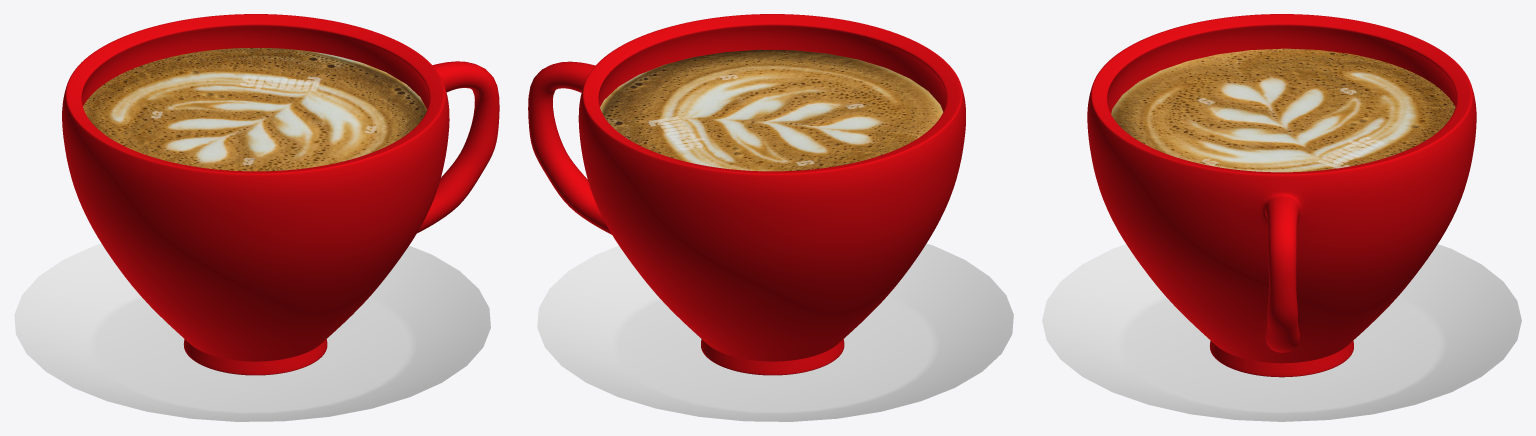
The model's file is Taza de Cafe Final.glb.
3 views of the same model, side by side, from view 1: azimuth 30°, elevation 25°; view 2: azimuth 150°, elevation 25°; view 3: azimuth 270°, elevation 25° (orthographic).
Parts seen in each view (by area): view 1: Cilindro, Círculo, Círculo.001; view 2: Cilindro, Círculo, Círculo.001; view 3: Cilindro, Círculo, Círculo.001.
Part boxes in pixels (left/top/right/bottom): Cilindro: left=62, top=14, right=499, bottom=375; Círculo: left=14, top=243, right=490, bottom=421; Círculo.001: left=83, top=48, right=427, bottom=171; Cilindro: left=528, top=14, right=965, bottom=375; Círculo: left=537, top=243, right=1013, bottom=421; Círculo.001: left=600, top=49, right=943, bottom=171; Cilindro: left=1087, top=14, right=1476, bottom=377; Círculo: left=1042, top=244, right=1521, bottom=421; Círculo.001: left=1111, top=48, right=1455, bottom=172.
Bounding box in the file's own units: 4.93 × 2.63 × 4.51.
3 materials, 1 textured.
